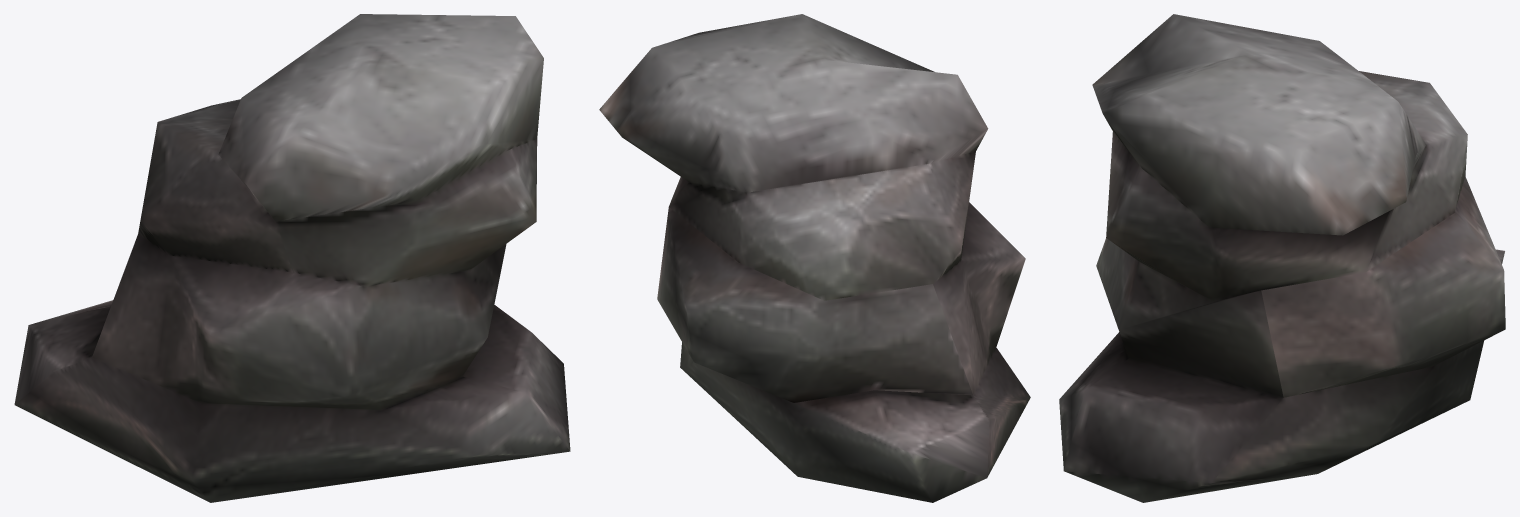
Rendered from Mid 4.fbx.
The picture shows the model from 3 angles, left to right: view 1: azimuth 30°, elevation 25°; view 2: azimuth 150°, elevation 25°; view 3: azimuth 270°, elevation 25°; orthographic projection. The views are drawn at different scales.
Visible parts, largest first — view 1: Mid_4; view 2: Mid_4; view 3: Mid_4.
Part boxes in pixels (x1,y1,x2,y2): Mid_4: (14, 14, 570, 502); Mid_4: (599, 14, 1030, 502); Mid_4: (1059, 14, 1505, 502).
Bounding box in the file's own units: 370 × 279 × 289.
